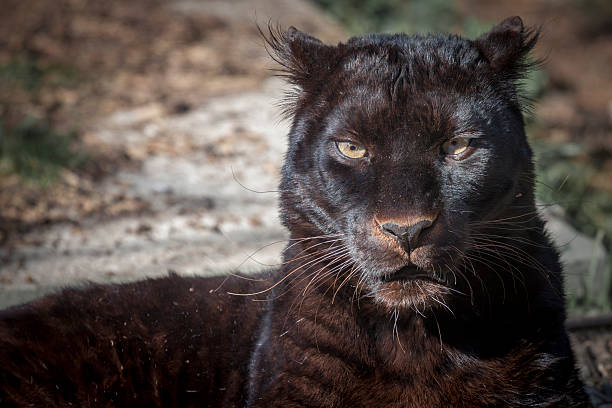panther: (218, 18, 612, 361)
